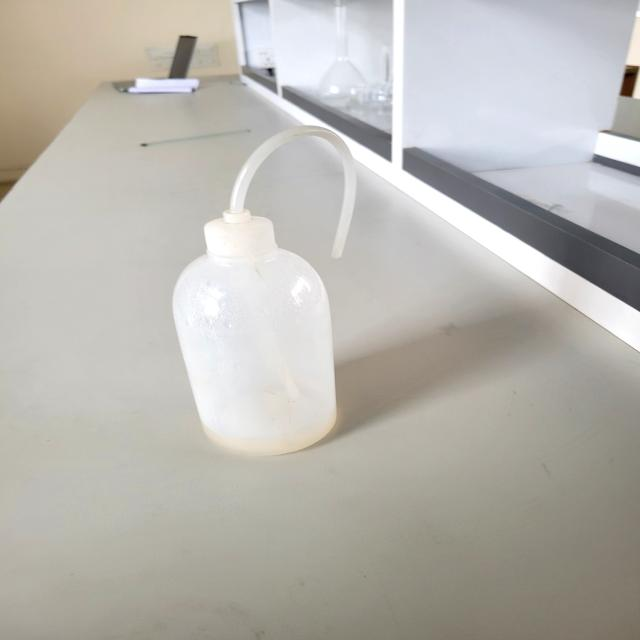Wash_Bottle: (167, 116, 369, 469)
